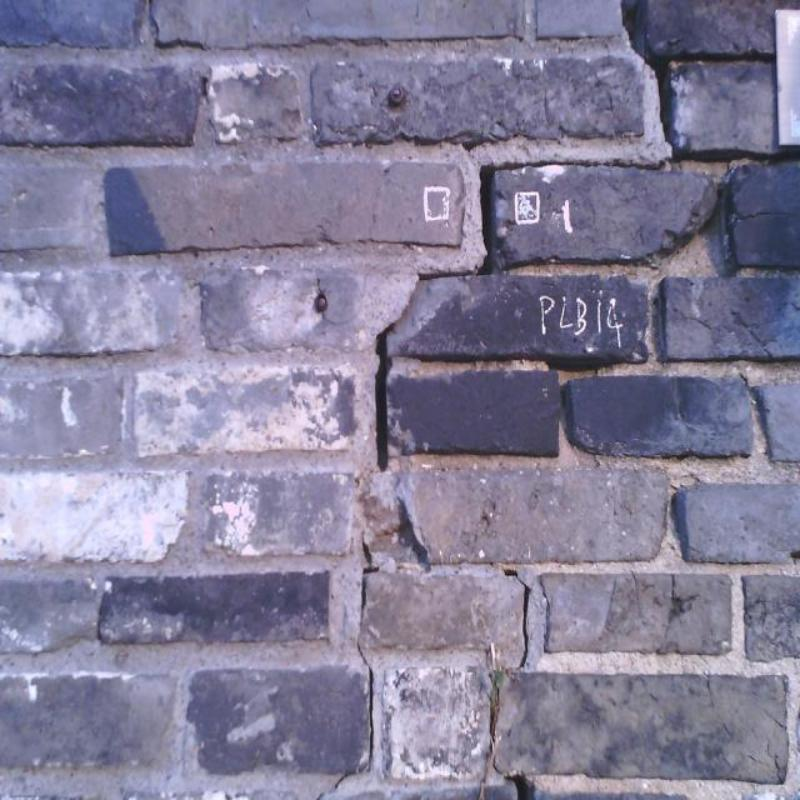crack: (476, 159, 665, 275), (623, 0, 686, 160), (375, 325, 394, 471), (358, 641, 374, 772), (362, 542, 380, 608), (518, 579, 530, 668), (506, 775, 536, 799), (333, 770, 363, 789), (418, 273, 473, 282), (739, 212, 788, 220), (503, 569, 517, 577), (315, 793, 325, 799), (726, 160, 730, 170)
